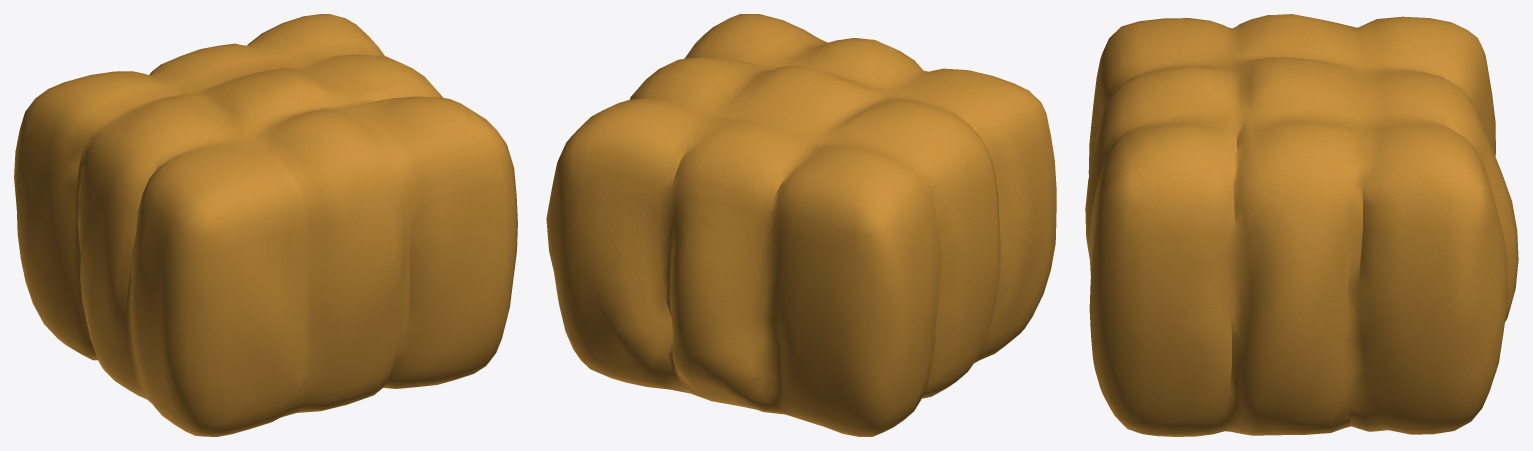
File: puff.glb
3 renders of one model, left to right at view 1: azimuth 30°, elevation 25°; view 2: azimuth 150°, elevation 25°; view 3: azimuth 270°, elevation 25°, orthographic. The views are drawn at different scales.
Visible parts, largest first — view 1: Object_2; view 2: Object_2; view 3: Object_2.
Boxes of the visible parts, x1,y1,x2,y2 form: Object_2: (14, 14, 517, 436); Object_2: (546, 14, 1056, 436); Object_2: (1085, 14, 1518, 436).
Size of the model in its own units: 21.23 by 15.36 by 20.
1 material, 1 textured.
